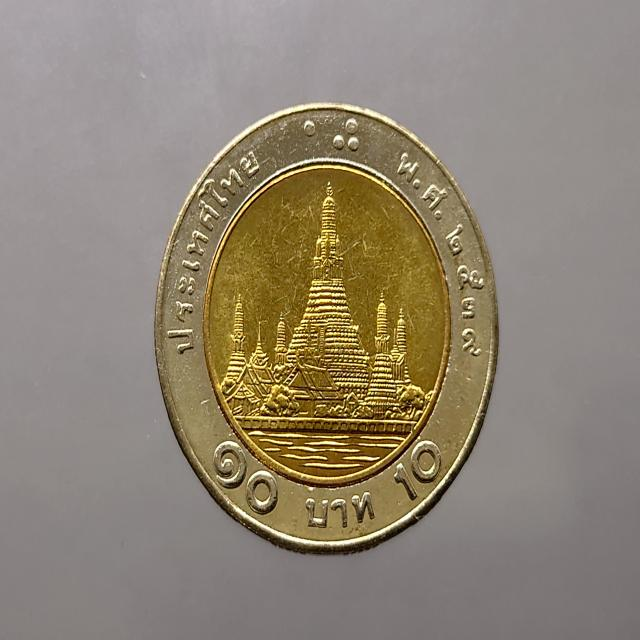10 Bath: (150, 97, 503, 562)
